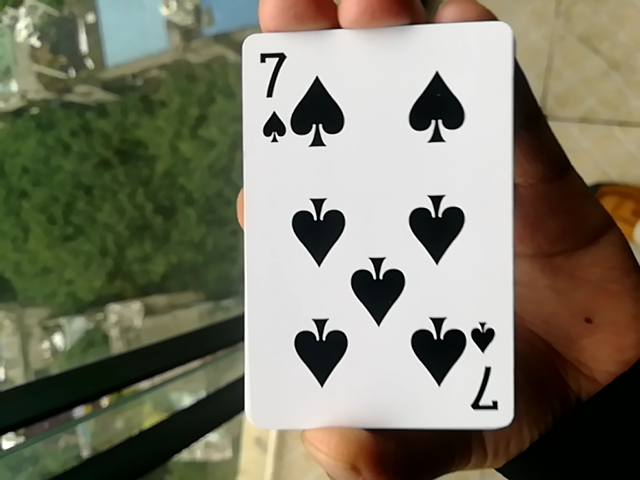ht 7: (224, 17, 515, 441)
